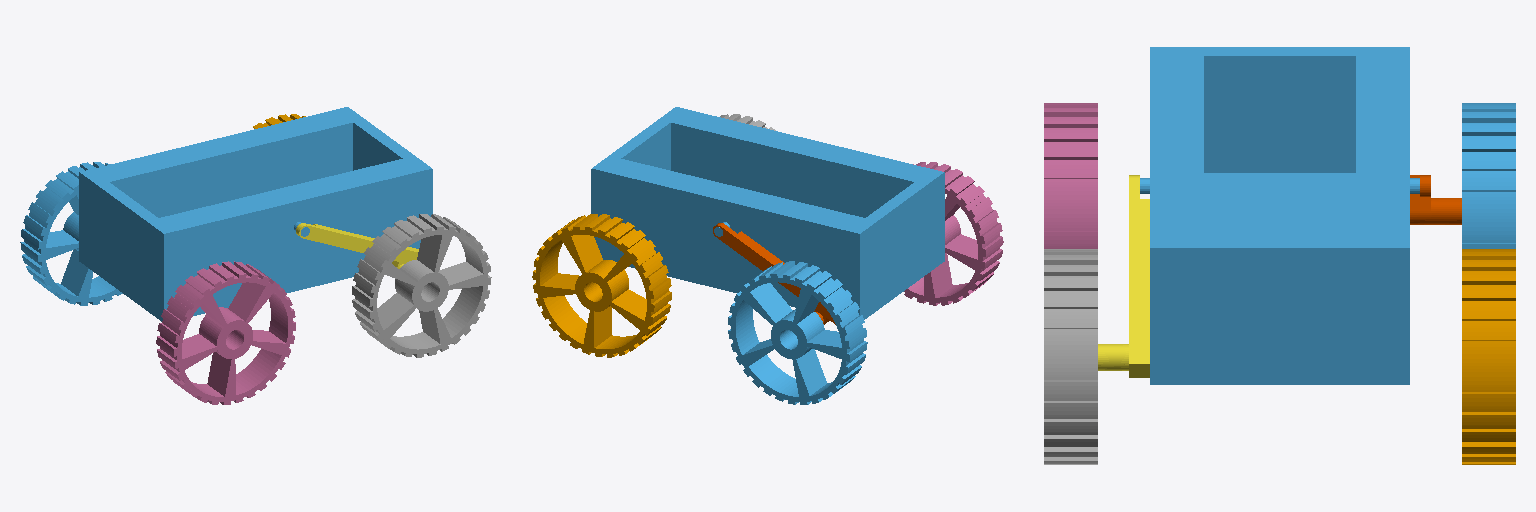
robot.urdf — patasmonkey:
<?xml version="1.0" encoding="utf-8"?>
<robot name="patasmonkey">

	<link name="base_link"/>
	<!-- 最初は車体主要部をbase_linkとしていたが、CADと座標系を合わせるために回したりしたいので大きさゼロの仮想base_linkを定義し、車体主要部リンク（body）をぶら下げる形とした -->

	<link name="body">
		<inertial>
			<mass value="8.878175441817634"/>
			<origin rpy="0 0 0" xyz="3.605945130529295e-17 -1.370259149601132e-15 0.061700238722655266"/>
			<inertia ixx="0.180154674257629" ixy="5.122274160385088e-17" ixz="1.9752846156165697e-17" iyy="0.0824654290636114" iyz="4.531262737562093e-16" izz="0.22992441349024134"/>
		</inertial>
		<collision name="body_collision">
			<origin rpy="0.0 -0.0 0.0" xyz="0.0 0.0 0.0"/>
			<geometry>
				<mesh filename="package://patasmonkey_description/meshes/body.stl" scale="0.001 0.001 0.001"/>
			</geometry>
		</collision>
		<visual name="body_visual">
			<origin rpy="0.0 -0.0 0.0" xyz="0.0 0.0 0.0"/>
			<geometry>
				<mesh filename="package://patasmonkey_description/meshes/body.stl" scale="0.001 0.001 0.001"/>
			</geometry>
		</visual>
	</link>
	<link name="wheelarm_1_v3:1">
		<inertial>
			<mass value="0.11129201234266223"/>
			<origin rpy="0 0 0" xyz="0.011864073144704071 -0.11539021627920214 -0.057812154810178235"/>
			<inertia ixx="0.00044081613489392916" ixy="1.3004019884530748e-05" ixz="1.1126423064250356e-05" iyy="0.00011346844003993653" iyz="-0.0001751098519904491" izz="0.00034575987847753427"/>
		</inertial>
		<collision name="wheelarm_1_v3:1_collision">
			<origin rpy="0.0 0.4363323129985771 -1.5707963267948966" xyz="1.3877787807814457e-17 7.50720839698537e-18 -1.3877787807814457e-17"/>
			<geometry>
				<mesh filename="package://patasmonkey_description/meshes/wheelarm_1_v3.stl" scale="0.001 0.001 0.001"/>
			</geometry>
		</collision>
		<visual name="wheelarm_1_v3:1_visual">
			<origin rpy="0.0 0.4363323129985771 -1.5707963267948966" xyz="1.3877787807814457e-17 7.50720839698537e-18 -1.3877787807814457e-17"/>
			<geometry>
				<mesh filename="package://patasmonkey_description/meshes/wheelarm_1_v3.stl" scale="0.001 0.001 0.001"/>
			</geometry>
		</visual>
	</link>
	<link name="wheelarm_2_v4:1">
		<inertial>
			<mass value="0.1112920123426623"/>
			<origin rpy="0 0 0" xyz="0.002309209808224133 0.11539021627920193 -0.05781215481017842"/>
			<inertia ixx="0.00044081613489390466" ixy="-7.771667430638374e-06" ixz="8.488137973844268e-06" iyy="0.00011326169495537535" iyz="0.00017510985199043966" izz="0.00034555313339295284"/>
		</inertial>
		<collision name="wheelarm_2_v4:1_collision">
			<origin rpy="3.141592653589793 0.4363323129985816 1.5707963267948966" xyz="0.010000000000000009 0.0 0.0"/>
			<geometry>
				<mesh filename="package://patasmonkey_description/meshes/wheelarm_2_v4.stl" scale="0.001 0.001 0.001"/>
			</geometry>
		</collision>
		<visual name="wheelarm_2_v4:1_visual">
			<origin rpy="3.141592653589793 0.4363323129985816 1.5707963267948966" xyz="0.010000000000000009 0.0 0.0"/>
			<geometry>
				<mesh filename="package://patasmonkey_description/meshes/wheelarm_2_v4.stl" scale="0.001 0.001 0.001"/>
			</geometry>
		</visual>
	</link>
	<link name="wheelarm_1_v3:2">
		<inertial>
			<mass value="0.11129201234266223"/>
			<origin rpy="0 0 0" xyz="-0.011864073144703974 0.115390216279202 -0.057812154810178505"/>
			<inertia ixx="0.0004408161348938993" ixy="1.3004019884530748e-05" ixz="-1.1126423064250356e-05" iyy="0.00011346844003993298" iyz="0.00017510985199043798" izz="0.0003457598784775087"/>
		</inertial>
		<collision name="wheelarm_1_v3:2_collision">
			<origin rpy="0.0 0.4363323129985823 1.5707963267948966" xyz="0.0 0.0 0.0"/>
			<geometry>
				<mesh filename="package://patasmonkey_description/meshes/wheelarm_1_v3.stl" scale="0.001 0.001 0.001"/>
			</geometry>
		</collision>
		<visual name="wheelarm_1_v3:2_visual">
			<origin rpy="0.0 0.4363323129985823 1.5707963267948966" xyz="0.0 0.0 0.0"/>
			<geometry>
				<mesh filename="package://patasmonkey_description/meshes/wheelarm_1_v3.stl" scale="0.001 0.001 0.001"/>
			</geometry>
		</visual>
	</link>
	<link name="wheelarm_2_v4:2">
		<inertial>
			<mass value="0.1112920123426623"/>
			<origin rpy="0 0 0" xyz="-0.002309209808224133 -0.11539021627920193 -0.05781215481017848"/>
			<inertia ixx="0.00044081613489389967" ixy="-7.771667430638374e-06" ixz="-8.488137973844356e-06" iyy="0.00011326169495537428" iyz="-0.00017510985199043806" izz="0.00034555313339294997"/>
		</inertial>
		<collision name="wheelarm_2_v4:2_collision">
			<origin rpy="3.141592653589793 0.4363323129985823 -1.5707963267948966" xyz="-0.010000000000000009 0.0 0.0"/>
			<geometry>
				<mesh filename="package://patasmonkey_description/meshes/wheelarm_2_v4.stl" scale="0.001 0.001 0.001"/>
			</geometry>
		</collision>
		<visual name="wheelarm_2_v4:2_visual">
			<origin rpy="3.141592653589793 0.4363323129985823 -1.5707963267948966" xyz="-0.010000000000000009 0.0 0.0"/>
			<geometry>
				<mesh filename="package://patasmonkey_description/meshes/wheelarm_2_v4.stl" scale="0.001 0.001 0.001"/>
			</geometry>
		</visual>
	</link>
	<link name="wheel_v1:1">
		<inertial>
			<mass value="0.6459736269326636"/>
			<origin rpy="0 0 0" xyz="0.02500000000000005 -8.548717289613705e-14 -3.995788481992932e-14"/>
			<inertia ixx="0.0038053875071388916" ixy="2.842170943040401e-18" ixz="1.226796442210798e-18" iyy="0.002037271592695285" iyz="2.1636328284557748e-13" izz="0.0020372715923322174"/>
		</inertial>
		<collision name="wheel_v1:1_collision">
			<origin rpy="0.0 -0.4363323129985797 1.5707963267948966" xyz="0.05000000000000002 0.0 0.0"/>
			<geometry>
				<mesh filename="package://patasmonkey_description/meshes/wheel_v1.stl" scale="0.001 0.001 0.001"/>
			</geometry>
		</collision>
		<visual name="wheel_v1:1_visual">
			<origin rpy="0.0 -0.4363323129985797 1.5707963267948966" xyz="0.05000000000000002 0.0 0.0"/>
			<geometry>
				<mesh filename="package://patasmonkey_description/meshes/wheel_v1.stl" scale="0.001 0.001 0.001"/>
			</geometry>
		</visual>
	</link>
	<link name="wheel_v1:2">
		<inertial>
			<mass value="0.6459736269326636"/>
			<origin rpy="0 0 0" xyz="0.025000000000000022 -8.554268404736831e-14 3.978946078869727e-14"/>
			<inertia ixx="0.0038053875071388916" ixy="-2.842170943040401e-18" ixz="4.3021142204224814e-20" iyy="0.002037271592695302" iyz="-2.163487167194944e-13" izz="0.0020372715923322004"/>
		</inertial>
		<collision name="wheel_v1:2_collision">
			<origin rpy="0.0 0.4363323129985819 1.5707963267948966" xyz="0.04999999999999999 0.0 0.0"/>
			<geometry>
				<mesh filename="package://patasmonkey_description/meshes/wheel_v1.stl" scale="0.001 0.001 0.001"/>
			</geometry>
		</collision>
		<visual name="wheel_v1:2_visual">
			<origin rpy="0.0 0.4363323129985819 1.5707963267948966" xyz="0.04999999999999999 0.0 0.0"/>
			<geometry>
				<mesh filename="package://patasmonkey_description/meshes/wheel_v1.stl" scale="0.001 0.001 0.001"/>
			</geometry>
		</visual>
	</link>
	<link name="wheel_v1:3">
		<inertial>
			<mass value="0.6459736269326636"/>
			<origin rpy="0 0 0" xyz="-0.02500000000000005 8.545941732052142e-14 -3.9957891596192896e-14"/>
			<inertia ixx="0.0038053875071388916" ixy="2.842170943040401e-18" ixz="-1.2261025528204072e-18" iyy="0.0020372715926952906" iyz="-2.1636328284557748e-13" izz="0.0020372715923322117"/>
		</inertial>
		<collision name="wheel_v1:3_collision">
			<origin rpy="0.0 -0.4363323129985824 -1.5707963267948966" xyz="-0.05000000000000002 0.0 0.0"/>
			<geometry>
				<mesh filename="package://patasmonkey_description/meshes/wheel_v1.stl" scale="0.001 0.001 0.001"/>
			</geometry>
		</collision>
		<visual name="wheel_v1:3_visual">
			<origin rpy="0.0 -0.4363323129985824 -1.5707963267948966" xyz="-0.05000000000000002 0.0 0.0"/>
			<geometry>
				<mesh filename="package://patasmonkey_description/meshes/wheel_v1.stl" scale="0.001 0.001 0.001"/>
			</geometry>
		</visual>
	</link>
	<link name="wheel_v1:4">
		<inertial>
			<mass value="0.6459736269326636"/>
			<origin rpy="0 0 0" xyz="-0.025000000000000022 8.554268404736831e-14 3.9789454012433695e-14"/>
			<inertia ixx="0.0038053875071388916" ixy="0.0" ixz="-4.3021142204224814e-20" iyy="0.002037271592695305" iyz="2.163487167194944e-13" izz="0.002037271592332195"/>
		</inertial>
		<collision name="wheel_v1:4_collision">
			<origin rpy="0.0 0.4363323129985823 -1.5707963267948966" xyz="-0.04999999999999999 0.0 0.0"/>
			<geometry>
				<mesh filename="package://patasmonkey_description/meshes/wheel_v1.stl" scale="0.001 0.001 0.001"/>
			</geometry>
		</collision>
		<visual name="wheel_v1:4_visual">
			<origin rpy="0.0 0.4363323129985823 -1.5707963267948966" xyz="-0.04999999999999999 0.0 0.0"/>
			<geometry>
				<mesh filename="package://patasmonkey_description/meshes/wheel_v1.stl" scale="0.001 0.001 0.001"/>
			</geometry>
		</visual>
	</link>

	<!-- 大きさを持たないbase_linkから車体主要部リンクであるbodyに回転した固定リンクを貼ることで、CADの座標系からROS 2座標系に変換（X座標が車両前方になるようにする） -->
	<joint name="base_link_to_body" type="fixed">
		<parent link="base_link"/>
		<child link="body"/>
		<origin xyz="0 0 0" rpy="0 0 -1.57079632679"/>
	</joint>
	<joint name="rev0" type="continuous">
		<parent link="body"/>
		<child link="wheelarm_1_v3:1"/>
		<origin rpy="0 0 0" xyz="0.11999999999999998 -7.50720839698537e-18 0.10000000000000002"/>
		<axis xyz="-1.0 0.0 0.0"/>
	</joint>
	<joint name="rev1" type="continuous">
		<parent link="body"/>
		<child link="wheelarm_2_v4:1"/>
		<origin rpy="0 0 0" xyz="0.13 4.440892098500626e-18 0.10000000000000002"/>
		<axis xyz="-1.0 0.0 0.0"/>
	</joint>
	<joint name="rev2" type="continuous">
		<parent link="body"/>
		<child link="wheelarm_1_v3:2"/>
		<origin rpy="0 0 0" xyz="-0.12 0.0 0.1"/>
		<axis xyz="1.0 0.0 0.0"/>
	</joint>
	<joint name="rev3" type="continuous">
		<parent link="body"/>
		<child link="wheelarm_2_v4:2"/>
		<origin rpy="0 0 0" xyz="-0.13 0.0 0.1"/>
		<axis xyz="1.0 0.0 0.0"/>
	</joint>
	<joint name="rev4" type="continuous">
		<parent link="wheelarm_1_v3:1"/>
		<child link="wheel_v1:1"/>
		<origin rpy="0 0 0" xyz="0.048000000000000306 -0.16012172781242637 -0.10004368005208156"/>
		<axis xyz="-1.0000000000000064 0.0 0.0"/>
	</joint>
	<joint name="rev5" type="continuous">
		<parent link="wheelarm_2_v4:1"/>
		<child link="wheel_v1:2"/>
		<origin rpy="0 0 0" xyz="0.03800000000000012 0.16012172781242617 -0.10004368005208177"/>
		<axis xyz="-1.0000000000000009 0.0 0.0"/>
	</joint>
	<joint name="rev6" type="continuous">
		<parent link="wheelarm_1_v3:2"/>
		<child link="wheel_v1:3"/>
		<origin rpy="0 0 0" xyz="-0.04800000000000004 0.16012172781242623 -0.10004368005208186"/>
		<axis xyz="1.0 0.0 0.0"/>
	</joint>
	<joint name="rev7" type="continuous">
		<parent link="wheelarm_2_v4:2"/>
		<child link="wheel_v1:4"/>
		<origin rpy="0 0 0" xyz="-0.038000000000000006 -0.16012172781242623 -0.10004368005208186"/>
		<axis xyz="1.0 0.0 0.0"/>
	</joint>
</robot>

--- Render facts (derived) ---
Views: 3 orthographic renders of the robot side by side, from view 1: azimuth 30°, elevation 25°; view 2: azimuth 150°, elevation 25°; view 3: azimuth 270°, elevation 25°.
Model patasmonkey with 10 links and 9 joints (8 continuous, 1 fixed), rooted at base_link, posed all joints at 0.
Links seen in each view (by area): view 1: body, wheel_v1:1, wheel_v1:2, wheel_v1:4, wheelarm_2_v4:1; view 2: body, wheel_v1:4, wheel_v1:3, wheel_v1:1, wheelarm_2_v4:2; view 3: body, wheel_v1:2, wheel_v1:3, wheel_v1:1, wheel_v1:4, wheelarm_2_v4:1, wheelarm_2_v4:2.
Boxes of the visible links, left/top/right/bottom form: body: left=79, top=107, right=432, bottom=321; wheel_v1:1: left=156, top=261, right=295, bottom=404; wheel_v1:2: left=352, top=214, right=491, bottom=357; wheel_v1:4: left=20, top=162, right=122, bottom=305; wheelarm_2_v4:1: left=296, top=223, right=418, bottom=268; body: left=591, top=107, right=944, bottom=319; wheel_v1:4: left=728, top=261, right=867, bottom=404; wheel_v1:3: left=532, top=214, right=671, bottom=357; wheel_v1:1: left=904, top=162, right=1003, bottom=305; wheelarm_2_v4:2: left=713, top=223, right=835, bottom=324; body: left=1140, top=47, right=1419, bottom=384; wheel_v1:2: left=1044, top=249, right=1097, bottom=464; wheel_v1:3: left=1462, top=249, right=1515, bottom=464; wheel_v1:1: left=1044, top=103, right=1097, bottom=248; wheel_v1:4: left=1462, top=103, right=1515, bottom=248; wheelarm_2_v4:1: left=1098, top=175, right=1149, bottom=377; wheelarm_2_v4:2: left=1410, top=175, right=1461, bottom=224.
Bounding box of the posed robot: 0.5202 × 0.436 × 0.24 m (x, y, z).
Meshes: 4 distinct files referenced, 7 mesh visuals loaded (3 binary STL); not drawn: 2 (reference not matched to a file when rendering).
